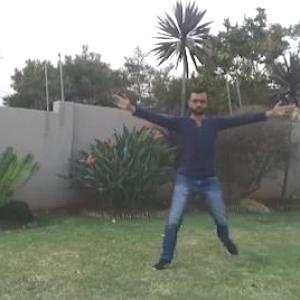takeoff: (122, 87, 296, 271)
